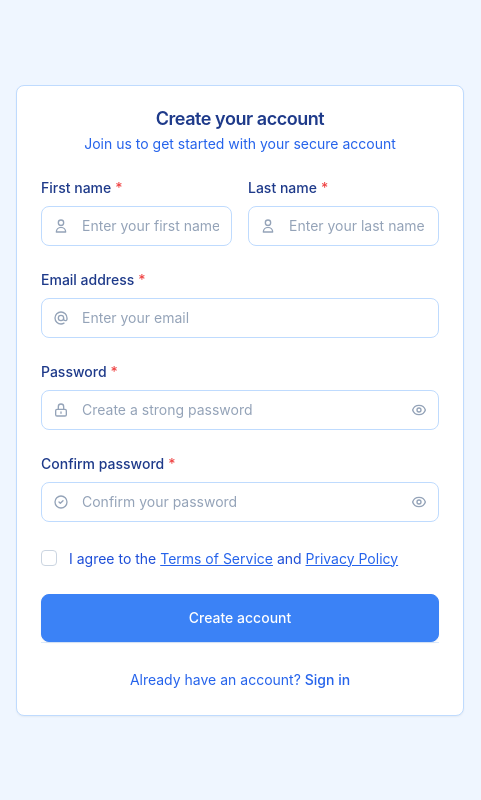
Test: SignupForm › Form Validation › should show error for short first name
This screenshot has width=481, height=800.
Type "a" into the field labelled "First name*". click: (136, 226)
box: x1=41 y1=206 x2=232 y2=246
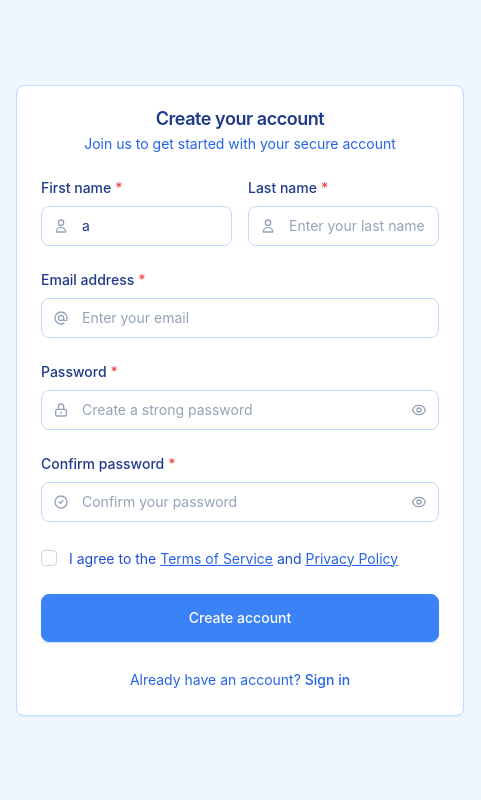
Click the button "Create account". click: (240, 618)
box: x1=41 y1=594 x2=439 y2=642
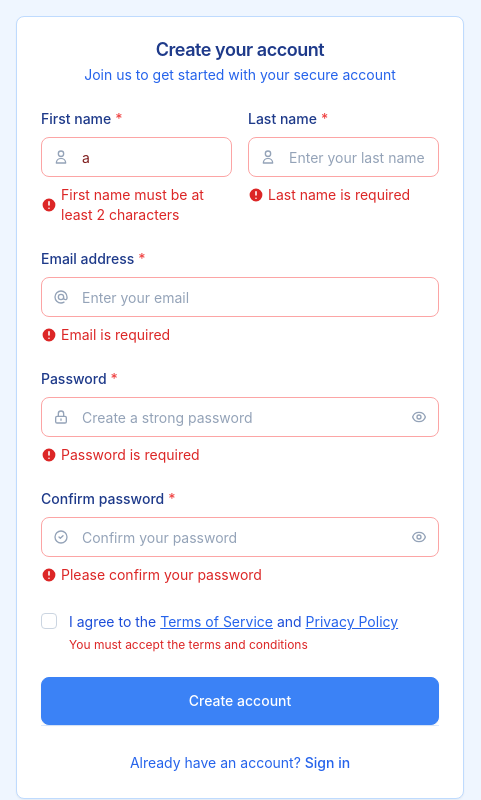
Expected: the text "First name must be at least 2 characters" is shown, x1=61 y1=186 x2=204 y2=223
